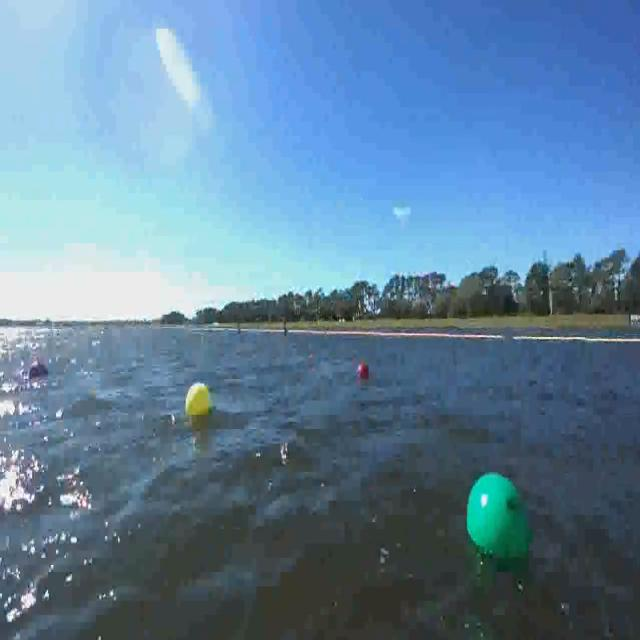green-buoy: (464, 469, 534, 565)
red-buoy: (28, 358, 49, 380), (360, 363, 368, 378)
yellow-buoy: (187, 383, 213, 417)
